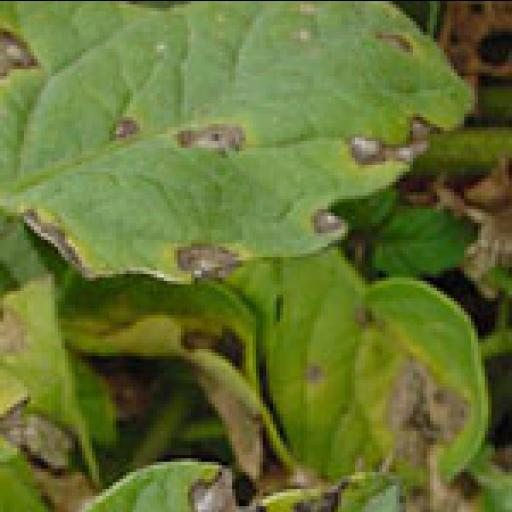disease_tomato: (0, 0, 474, 284)
